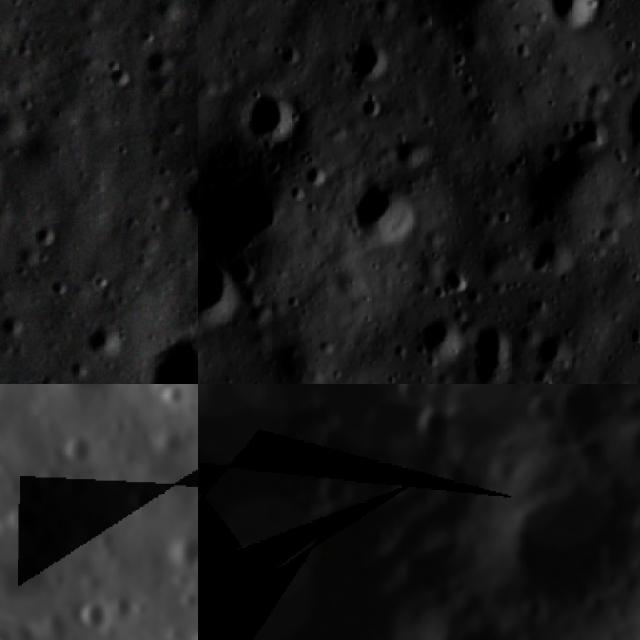crater: (198, 384, 458, 640), (502, 488, 637, 614), (202, 162, 276, 252), (138, 326, 198, 384), (356, 178, 411, 240), (330, 42, 396, 86), (238, 94, 296, 144), (471, 327, 513, 384), (55, 428, 104, 475), (198, 258, 231, 324), (71, 594, 117, 638), (3, 498, 49, 542), (418, 402, 454, 457), (540, 328, 579, 375), (81, 319, 123, 362), (538, 0, 615, 23), (316, 466, 354, 509), (164, 531, 198, 579), (415, 317, 453, 358), (120, 479, 159, 518), (518, 392, 558, 427), (620, 79, 640, 148), (176, 163, 198, 225), (141, 44, 180, 78), (27, 218, 64, 252), (154, 384, 193, 413), (389, 384, 428, 412), (106, 64, 138, 96), (0, 308, 27, 340), (232, 256, 258, 286), (144, 384, 184, 396)
